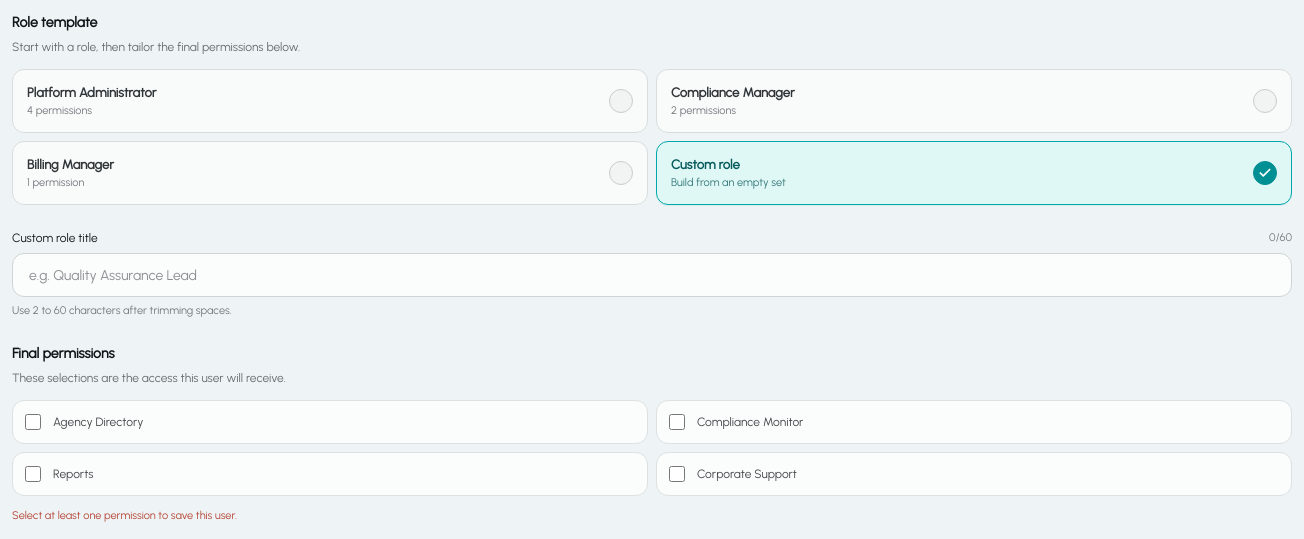
Scenario: RolePermissionsFields › reveals a required custom title and clears seeded permissions
Click the button "Compliance Manager 2 permissions": (733, 92) [656, 69, 1292, 133]
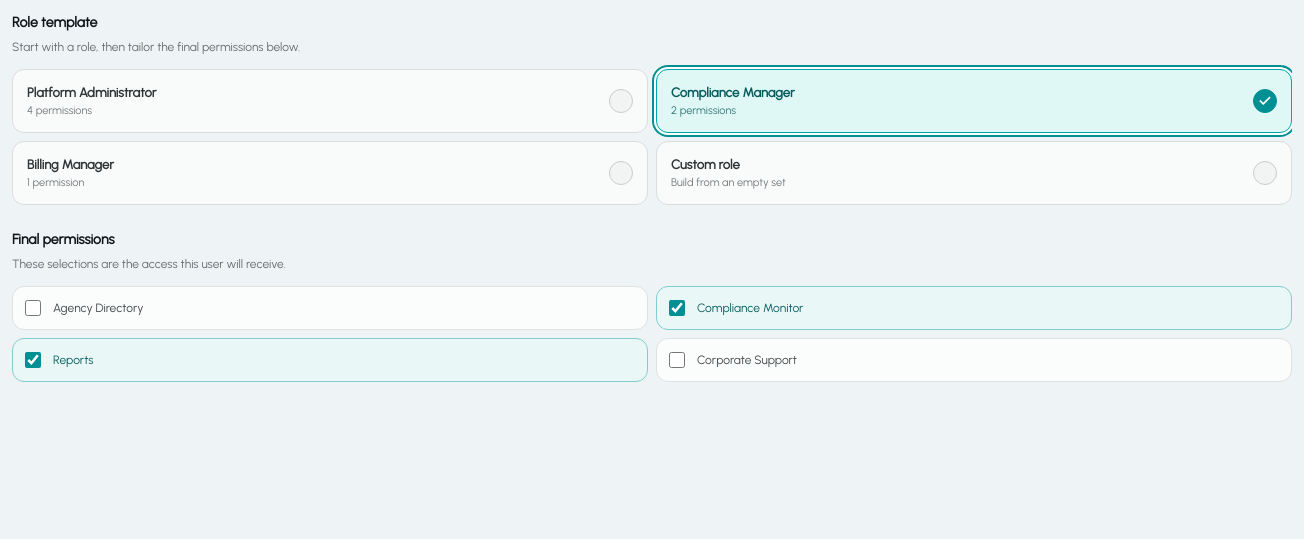
Now the checkbox labelled "Compliance Monitor" is checked, box [669, 300, 685, 316]
Click the button "Custom role Build from an empty set": (705, 164) [656, 141, 1292, 205]
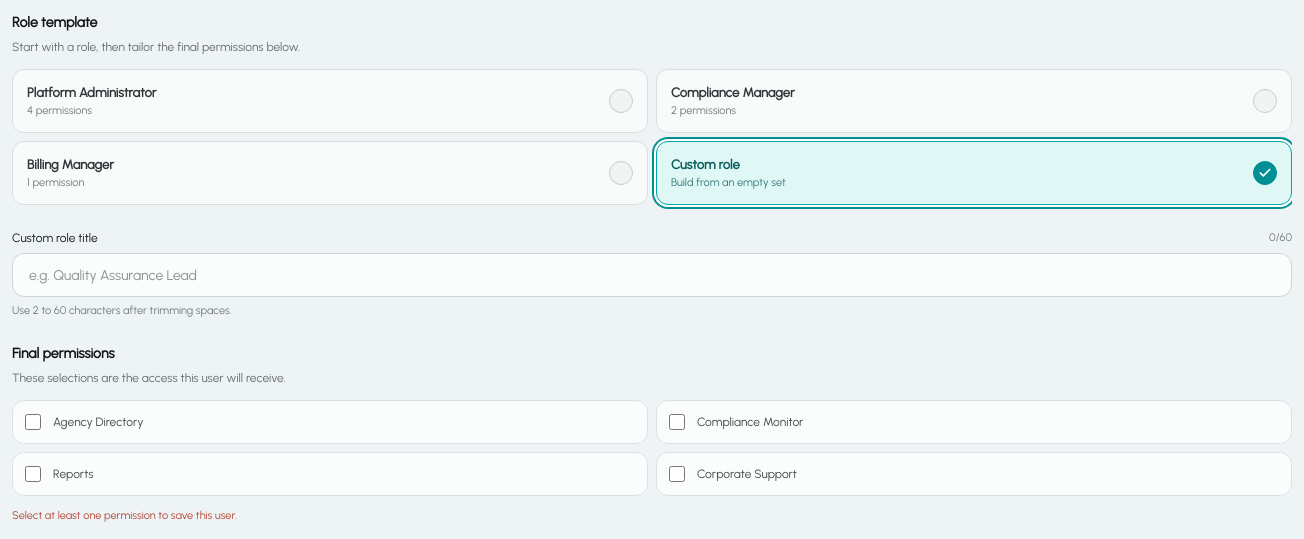
Now the field labelled "Custom role title" is shown, box [12, 253, 1292, 297]
